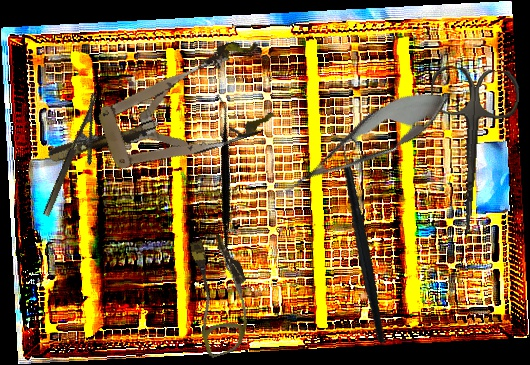Cannula: (175, 231, 265, 359)
Chopper: (296, 132, 417, 344)
Iris Scissors: (421, 66, 521, 236)
Micro Scissor: (271, 73, 460, 213)
Needle Holder: (41, 92, 117, 224)
Spatula Surgical: (142, 92, 313, 281)
Speculum: (32, 34, 286, 201)
